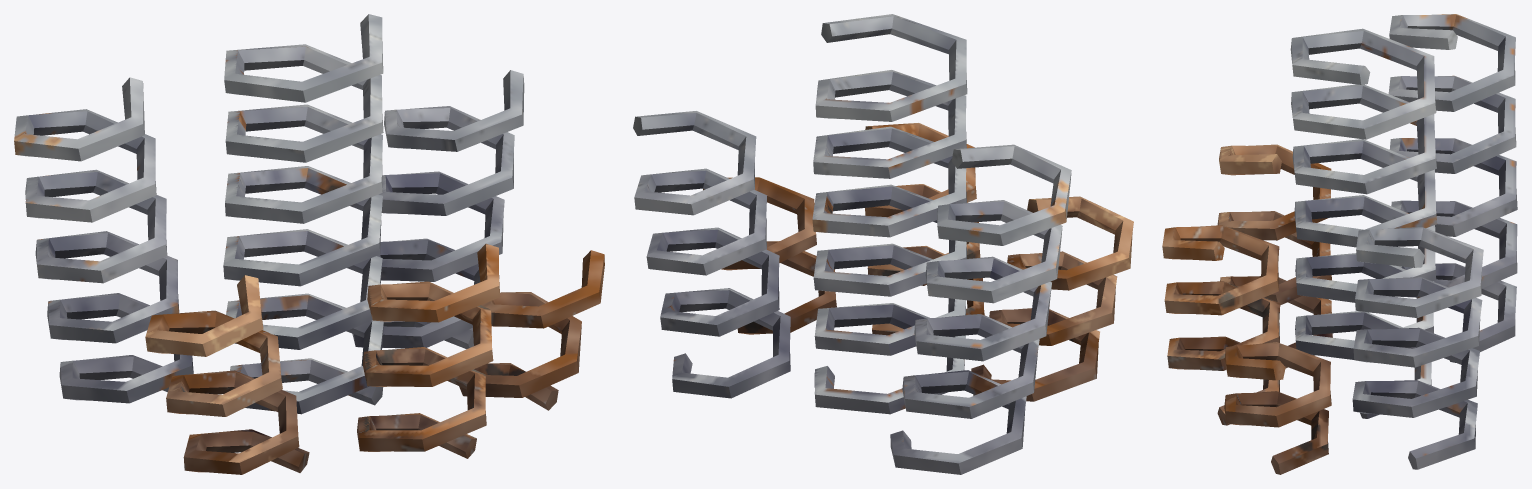
The model's file is BushSpring.glb.
The picture shows the model from 3 angles, left to right: view 1: azimuth 30°, elevation 25°; view 2: azimuth 150°, elevation 25°; view 3: azimuth 270°, elevation 25°; orthographic projection. The views are drawn at different scales.
Visible parts, largest first — view 1: Springs, RustySprings; view 2: Springs, RustySprings; view 3: Springs, RustySprings.
Boxes of the visible parts, x1=… form: Springs: x1=14, y1=14, x2=524, y2=414; RustySprings: x1=145, y1=243, x2=604, y2=474; Springs: x1=633, y1=14, x2=1071, y2=474; RustySprings: x1=703, y1=123, x2=1133, y2=401; Springs: x1=1290, y1=14, x2=1517, y2=469; RustySprings: x1=1162, y1=144, x2=1332, y2=474.
Bounding box in the file's own units: 2.88 × 2.22 × 2.02.
2 materials, 2 textured.
